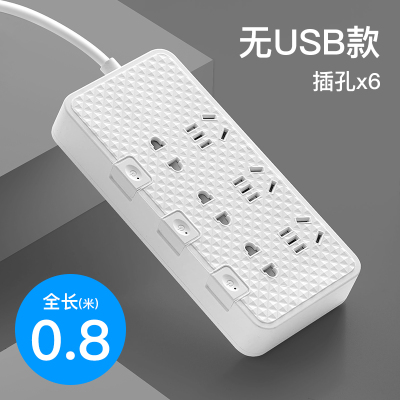Three_eye_plug: (45, 46, 366, 366)
